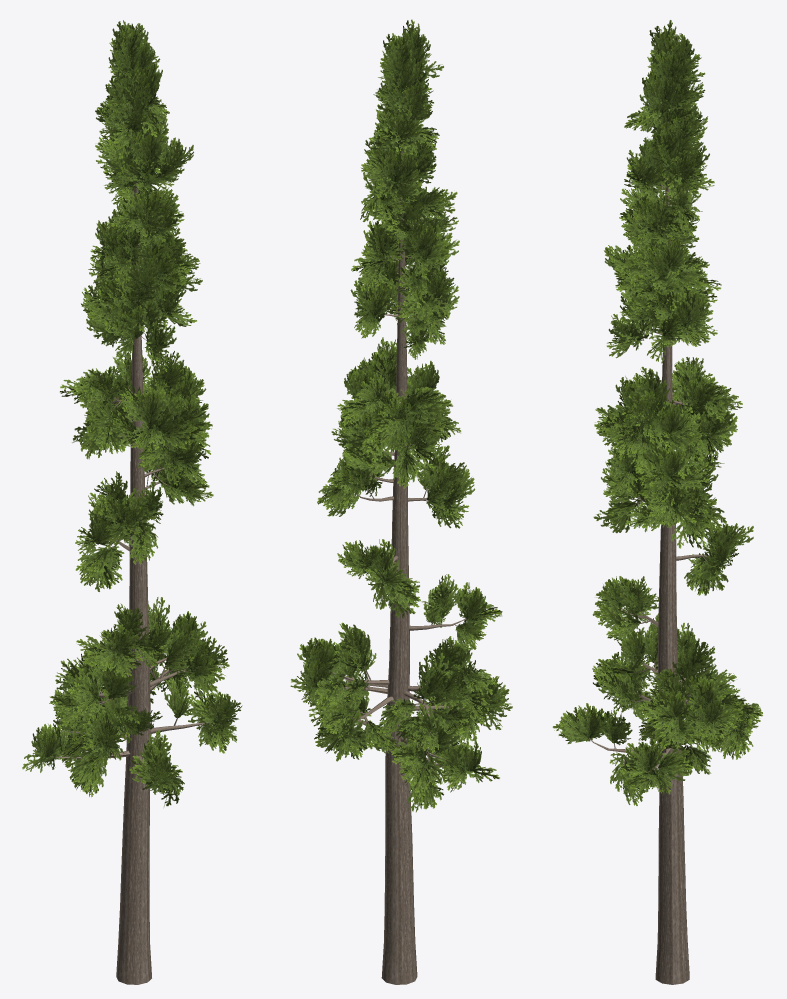
Rendered from RedwoodYoung_2.obj.
3 renders of one model, left to right at view 1: azimuth 30°, elevation 25°; view 2: azimuth 150°, elevation 25°; view 3: azimuth 270°, elevation 25°, orthographic.
Parts seen in each view (by area): view 1: RedwoodYoung_2; view 2: RedwoodYoung_2; view 3: RedwoodYoung_2.
Boxes of the visible parts, x1,y1,x2,y2 form: RedwoodYoung_2: (22,20,242,984); RedwoodYoung_2: (290,19,512,984); RedwoodYoung_2: (552,20,762,984).
Bounding box in the file's own units: 23.61 × 106 × 22.57.
2 materials, 2 textured.
